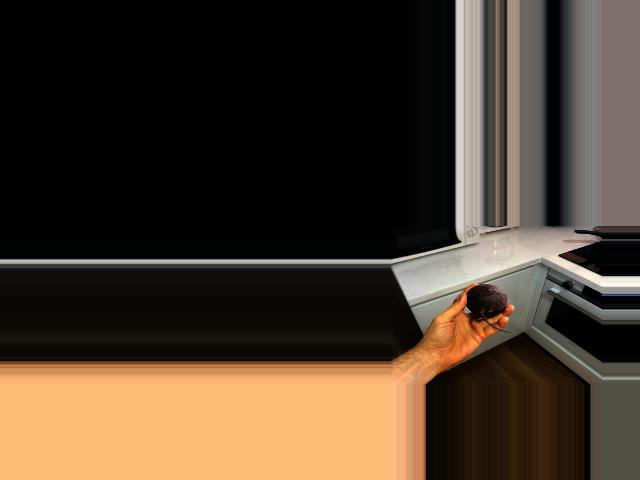beet: (466, 284, 511, 333)
